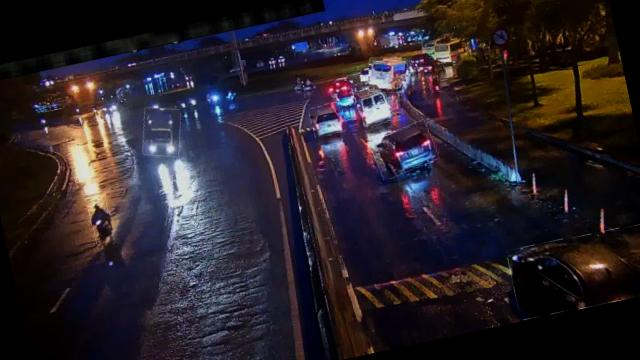Bike: (88, 202, 115, 243), (428, 74, 441, 94)
Bus: (364, 52, 412, 98), (353, 82, 394, 128)
Car: (505, 220, 640, 321), (369, 121, 440, 179), (308, 100, 348, 138)
Truck: (137, 102, 188, 160)
